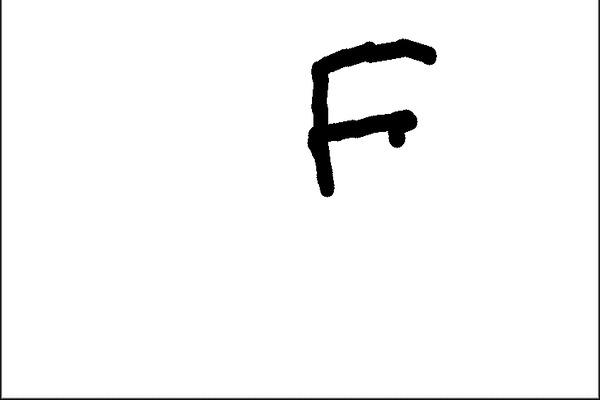F: (303, 34, 440, 200)
